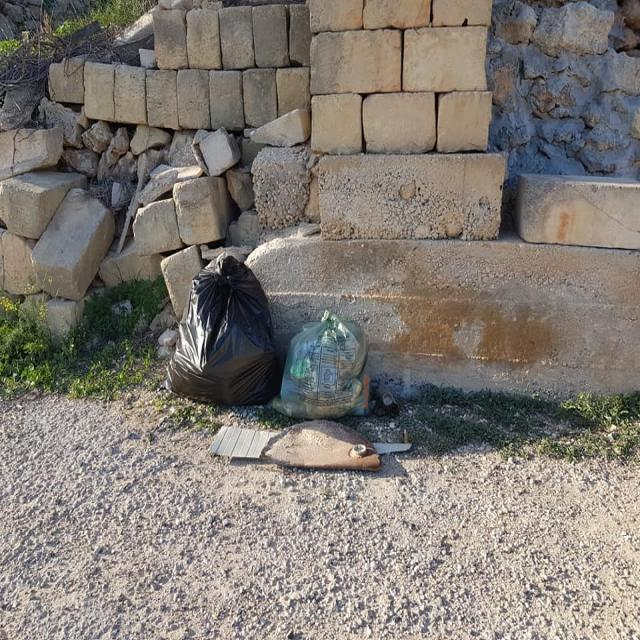Other litter: (213, 420, 416, 476)
Plastic bag - wrapper: (159, 252, 279, 405), (273, 309, 371, 414)
